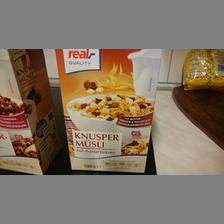Cerealien: (54, 48, 162, 172), (1, 48, 52, 176)
